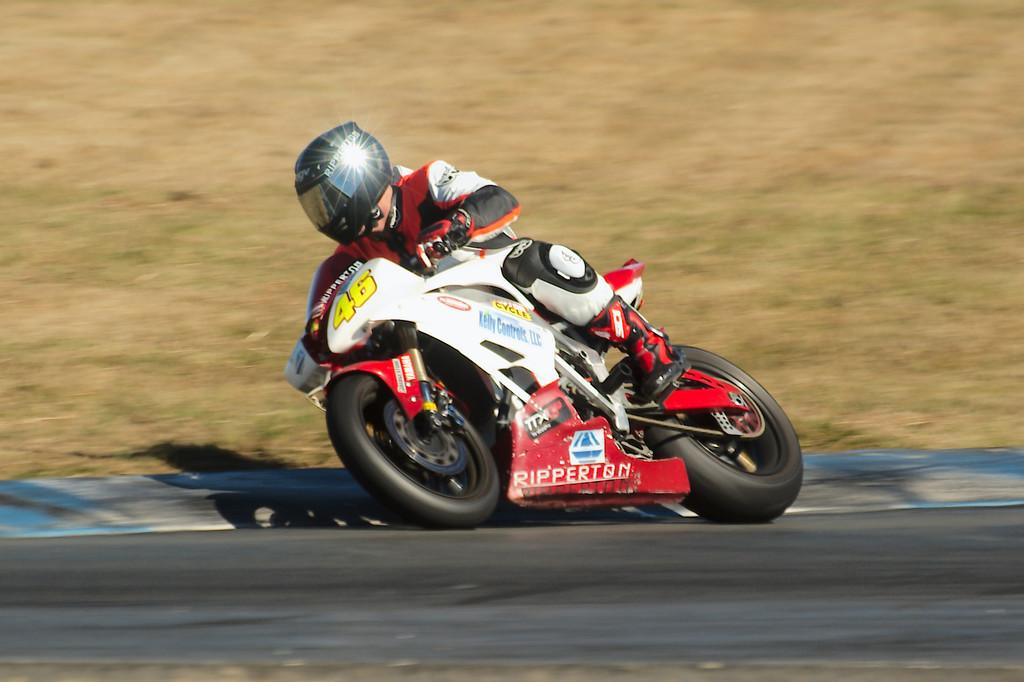helmet: (294, 121, 394, 247)
